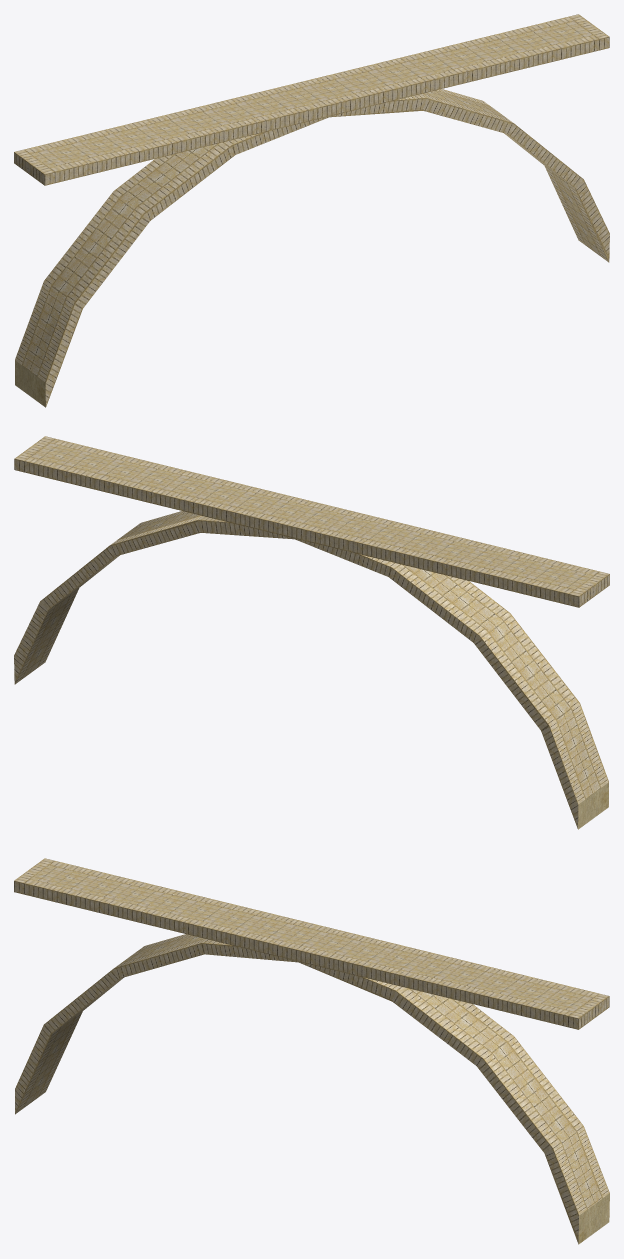
The model's file is bridge_structure_lower_level.dae.
3 renders of one model, top to bottom at view 1: azimuth 30°, elevation 25°; view 2: azimuth 150°, elevation 25°; view 3: azimuth 330°, elevation 25°, orthographic.
Parts seen in each view (by area): view 1: bridge_structure_lower_level; view 2: bridge_structure_lower_level; view 3: bridge_structure_lower_level.
Part boxes in pixels (x1,y1,x2,y2): bridge_structure_lower_level: (14, 14, 609, 407); bridge_structure_lower_level: (14, 436, 609, 829); bridge_structure_lower_level: (14, 858, 609, 1244).
Size of the model in its own units: 40.73 by 3.85 by 16.08.
3 materials, 3 textured.
